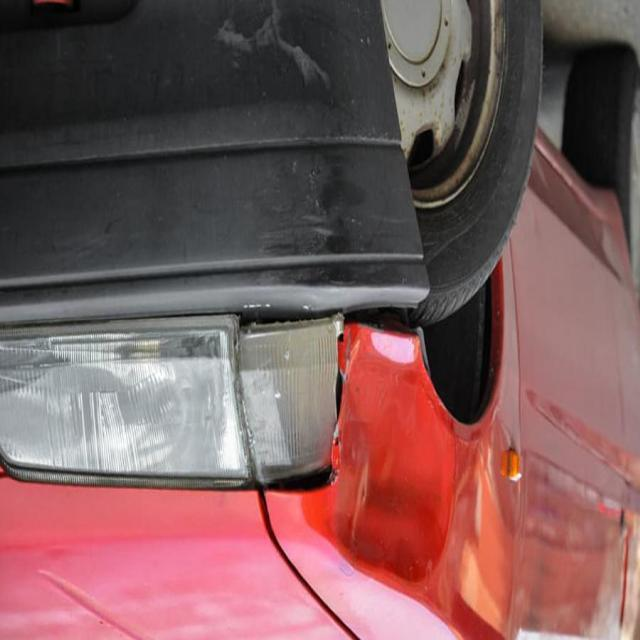dent: (270, 273, 482, 614)
